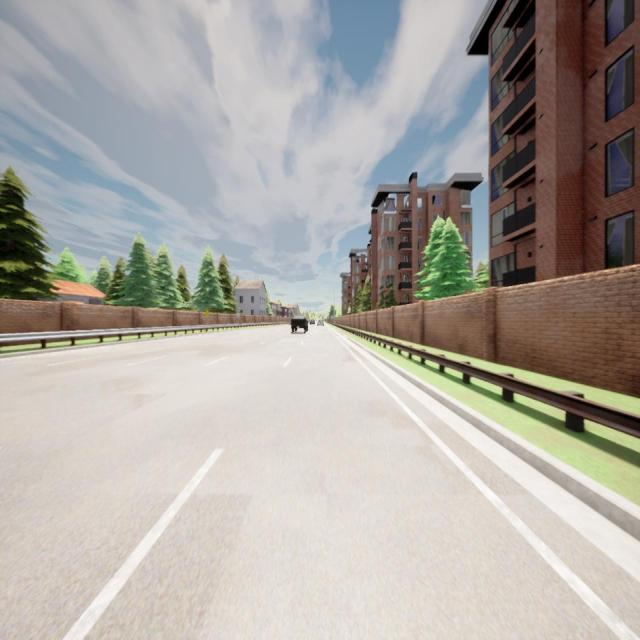Traffic_Signs: (203, 309, 211, 318)
Vehicle: (290, 315, 308, 333), (316, 318, 325, 327), (310, 317, 316, 325)
